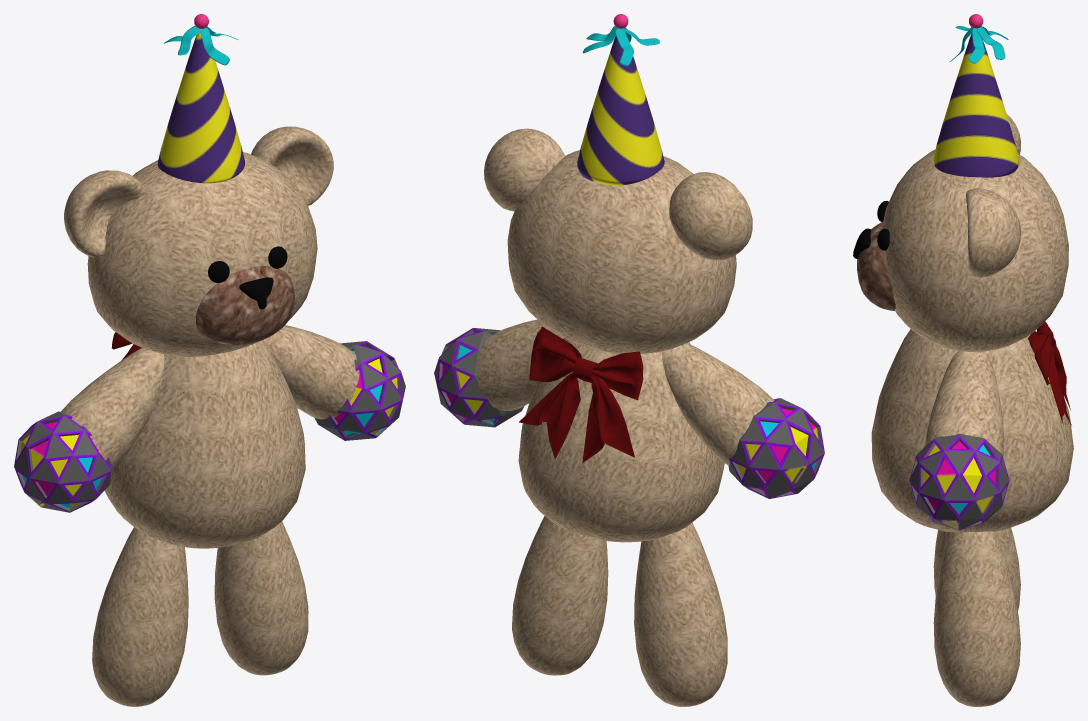
Rendered from Teddy Bear.fbx.
3 views of the same model, side by side, from view 1: azimuth 30°, elevation 25°; view 2: azimuth 150°, elevation 25°; view 3: azimuth 270°, elevation 25° (orthographic). The views are drawn at different scales.
Parts seen in each view (by area): view 1: teddi; view 2: teddi; view 3: teddi.
Part boxes in pixels (left/top/right/bottom): teddi: left=14, top=14, right=405, bottom=706; teddi: left=434, top=14, right=824, bottom=706; teddi: left=853, top=14, right=1073, bottom=706.
Size of the model in its own units: 365 by 623 by 190.
Materials: 1 (1 with a texture image).
